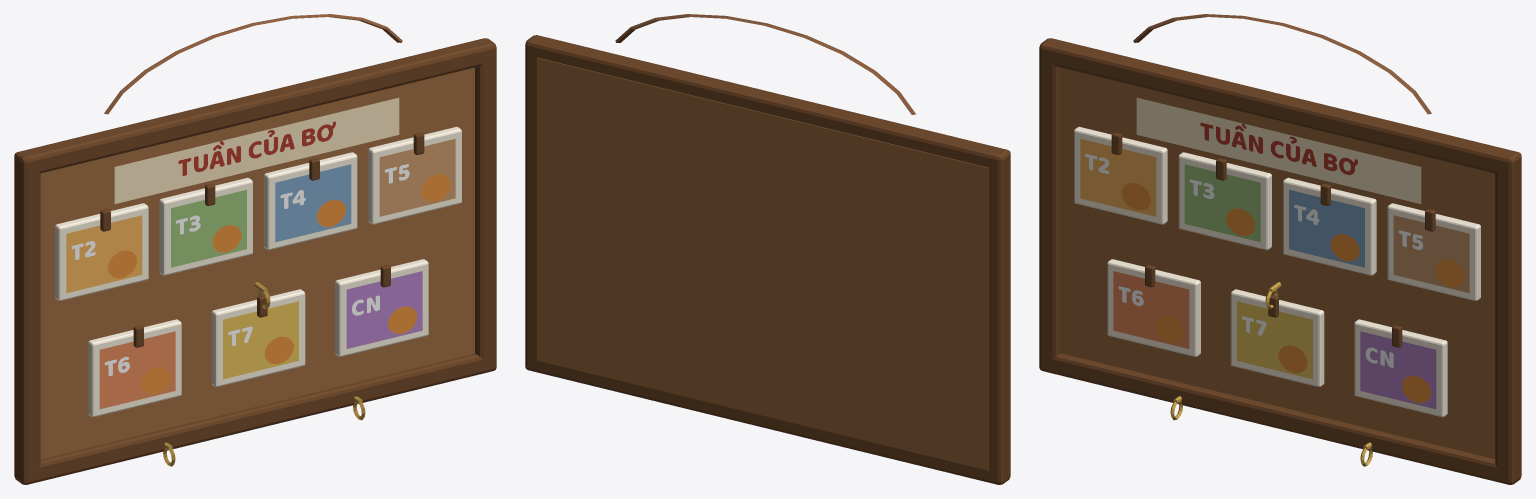
File: bang_tuan.glb
The picture shows the model from 3 angles, left to right: view 1: azimuth 30°, elevation 25°; view 2: azimuth 150°, elevation 25°; view 3: azimuth 330°, elevation 25°; orthographic projection.
Visible parts, largest first — view 1: bang_tuan, AnhT2, AnhT4, AnhT6, AnhCN, AnhT5, AnhT7, AnhT3; view 2: bang_tuan; view 3: bang_tuan, AnhT3, AnhT5, AnhCN, AnhT6, AnhT2, AnhT7, AnhT4.
Boxes of the visible parts, x1,y1,x2,y2 form: bang_tuan: (14,14,496,484); AnhT2: (66,215,142,293); AnhT4: (275,164,351,242); AnhT6: (99,331,175,409); AnhCN: (346,271,422,348); AnhT5: (379,139,455,216); AnhT7: (223,301,298,379); AnhT3: (171,189,246,267); bang_tuan: (525,14,1010,484); bang_tuan: (1039,14,1521,484); AnhT3: (1184,164,1260,242); AnhT5: (1393,215,1469,293); AnhCN: (1360,331,1436,409); AnhT6: (1113,271,1189,348); AnhT2: (1080,139,1156,216); AnhT7: (1237,301,1312,379); AnhT4: (1289,189,1364,267).
Bounding box in the file's own units: 1 × 0.8287 × 0.0725.
29 materials, 8 textured.
